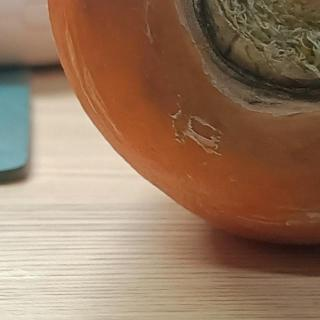carrot: (38, 0, 320, 248)
